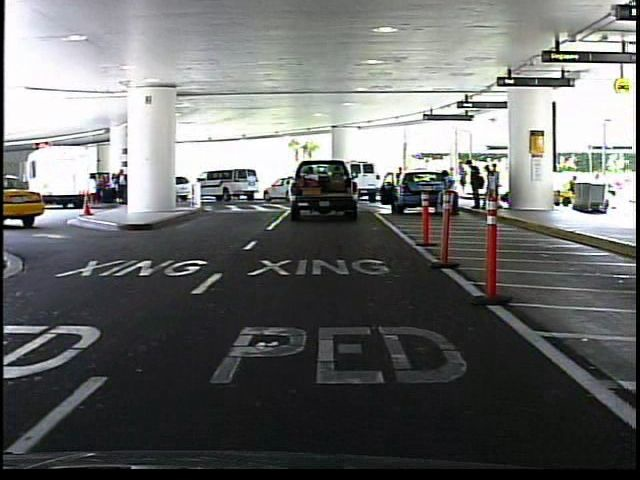person: (440, 164, 459, 199), (394, 164, 410, 204)
